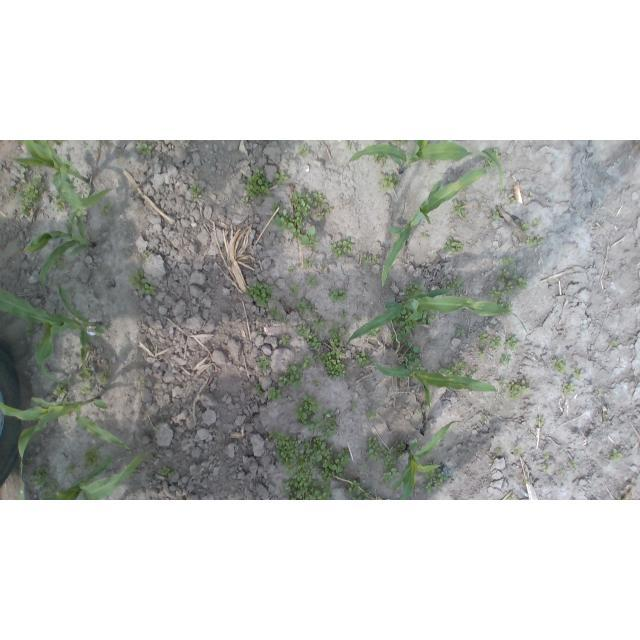Maize: (0, 396, 128, 499), (379, 168, 485, 286), (347, 287, 528, 345), (0, 288, 106, 381), (347, 140, 506, 190), (9, 141, 112, 210), (370, 357, 498, 412), (24, 209, 96, 296), (389, 418, 464, 500), (41, 452, 155, 501)
Weeds: (283, 467, 334, 500), (269, 430, 302, 476), (291, 395, 321, 434), (315, 347, 348, 382), (318, 448, 351, 481), (242, 168, 273, 201), (17, 175, 46, 210), (271, 210, 304, 239), (31, 466, 59, 500), (302, 436, 333, 466), (245, 282, 275, 309), (129, 267, 156, 295), (278, 362, 303, 391), (316, 408, 340, 438), (297, 322, 322, 350), (390, 305, 419, 328), (421, 469, 447, 494), (288, 188, 311, 216), (400, 346, 426, 370), (439, 358, 467, 377), (331, 237, 353, 260), (506, 380, 530, 401), (82, 445, 102, 467), (301, 226, 319, 250), (329, 324, 349, 345), (364, 436, 380, 462), (380, 446, 396, 471), (295, 297, 316, 315), (446, 276, 464, 296), (269, 306, 289, 324), (379, 174, 401, 190), (444, 237, 464, 254), (419, 310, 437, 327), (391, 328, 414, 341), (404, 282, 424, 296), (453, 201, 469, 218), (266, 386, 282, 403), (487, 286, 502, 304), (53, 193, 67, 212), (382, 468, 400, 482), (503, 335, 519, 350), (513, 274, 528, 290), (273, 171, 289, 186), (356, 352, 372, 367), (352, 489, 373, 500), (552, 358, 567, 373), (51, 255, 66, 270), (311, 318, 326, 333), (137, 142, 153, 156), (347, 479, 361, 495), (331, 290, 348, 303), (393, 441, 406, 458), (525, 235, 543, 247), (55, 382, 70, 396), (501, 254, 516, 268), (257, 357, 271, 372), (99, 204, 115, 217), (313, 192, 326, 207), (190, 184, 203, 199), (502, 281, 514, 297), (302, 355, 315, 369), (475, 331, 489, 344), (253, 383, 265, 398), (610, 449, 623, 462), (82, 367, 93, 382), (366, 326, 382, 336), (499, 299, 512, 311), (498, 270, 510, 283), (81, 384, 93, 397), (499, 352, 511, 365), (572, 365, 582, 380), (374, 152, 387, 163), (366, 410, 379, 421), (455, 324, 466, 337), (489, 337, 501, 348), (161, 467, 173, 478), (488, 209, 500, 220), (490, 147, 501, 159), (308, 276, 319, 288), (468, 366, 479, 378), (562, 383, 575, 393), (290, 284, 300, 297), (484, 157, 495, 168), (298, 145, 310, 155), (25, 322, 35, 334), (278, 336, 290, 346), (541, 462, 553, 472), (358, 462, 368, 473), (513, 446, 524, 456), (271, 199, 280, 211), (418, 405, 429, 414), (520, 220, 528, 232), (48, 140, 64, 146), (59, 412, 72, 419), (18, 163, 28, 172), (19, 208, 28, 218), (322, 205, 332, 214), (304, 257, 313, 267), (65, 466, 76, 474), (363, 255, 372, 264), (533, 219, 543, 227), (427, 158, 437, 166), (141, 250, 151, 258), (609, 339, 620, 346), (594, 386, 603, 394), (351, 400, 357, 412), (536, 417, 544, 426), (345, 142, 353, 150), (477, 348, 485, 356), (421, 232, 430, 239), (405, 338, 412, 347), (339, 311, 348, 318), (373, 255, 380, 263), (8, 188, 16, 195), (316, 213, 324, 220), (274, 295, 282, 302), (313, 378, 320, 386), (480, 415, 488, 422), (498, 378, 504, 387), (522, 478, 529, 485), (241, 199, 248, 206), (508, 197, 516, 203), (100, 372, 106, 380), (24, 370, 32, 376), (323, 261, 328, 270), (545, 450, 550, 459), (509, 494, 516, 500), (400, 141, 408, 146), (94, 332, 102, 337), (140, 380, 148, 385), (287, 267, 297, 271), (355, 316, 363, 321), (571, 461, 577, 467), (430, 461, 437, 466), (16, 140, 24, 144), (148, 477, 154, 482), (255, 331, 261, 336), (498, 446, 502, 452), (499, 243, 503, 248), (492, 457, 496, 462), (206, 280, 210, 284), (391, 140, 398, 142), (617, 497, 621, 500)
